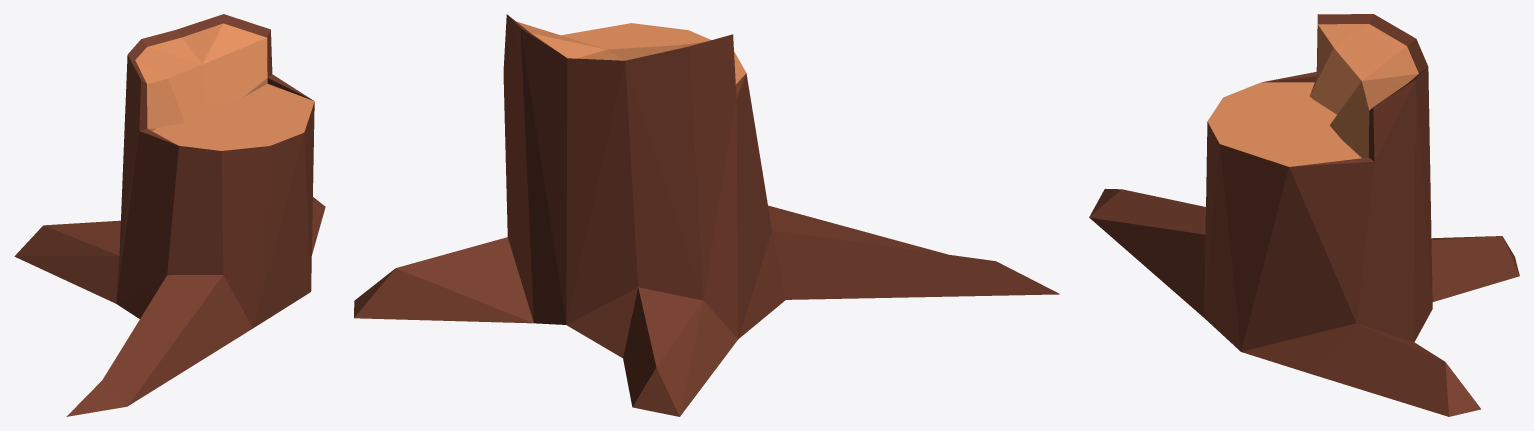
Rendered from pine_trunk_type_4_LOD1.fbx.
The picture shows the model from 3 angles, left to right: view 1: azimuth 30°, elevation 25°; view 2: azimuth 150°, elevation 25°; view 3: azimuth 270°, elevation 25°; orthographic projection. The views are drawn at different scales.
Parts seen in each view (by area): view 1: Cylinder.001; view 2: Cylinder.001; view 3: Cylinder.001.
Part boxes in pixels (left/top/right/bottom): Cylinder.001: left=14, top=14, right=325, bottom=416; Cylinder.001: left=354, top=14, right=1059, bottom=416; Cylinder.001: left=1089, top=14, right=1519, bottom=416.
Bounding box in the file's own units: 480 × 265 × 376.
